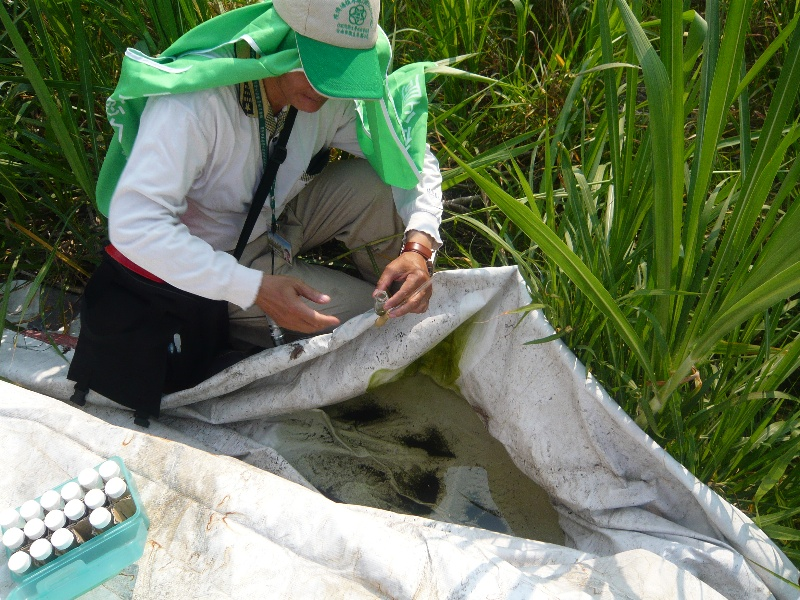plastic_bag: (149, 322, 800, 600)
